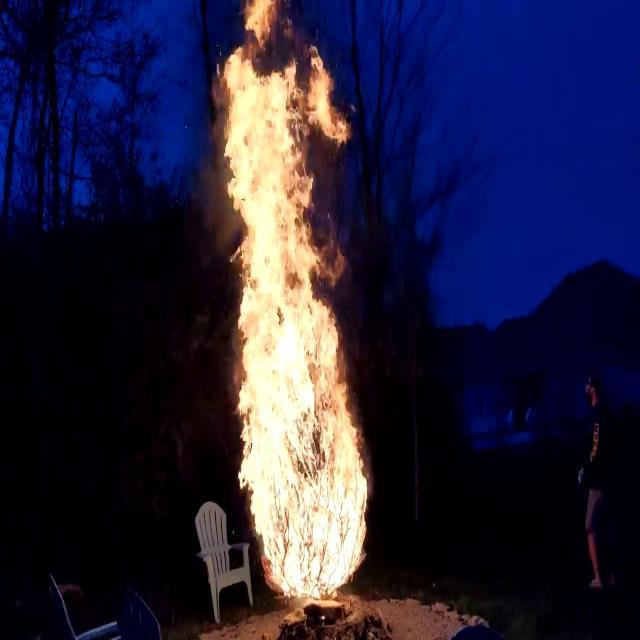Fire: (206, 1, 376, 604)
